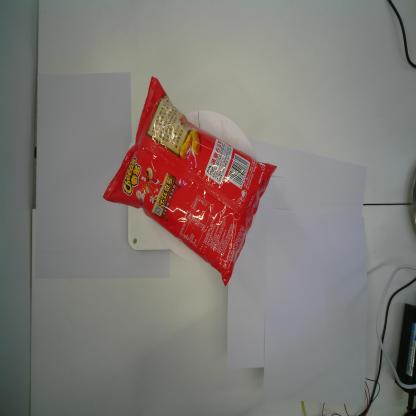Puffed Food: (101, 74, 279, 290)
